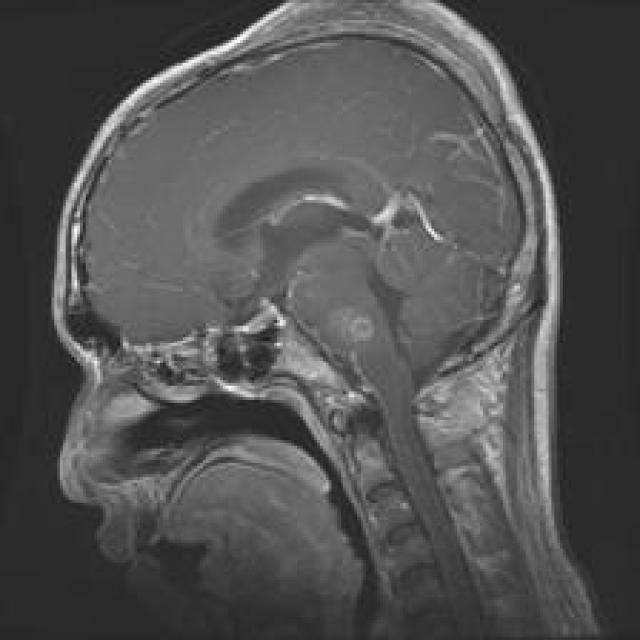glioma_tumor: (304, 288, 391, 361)
